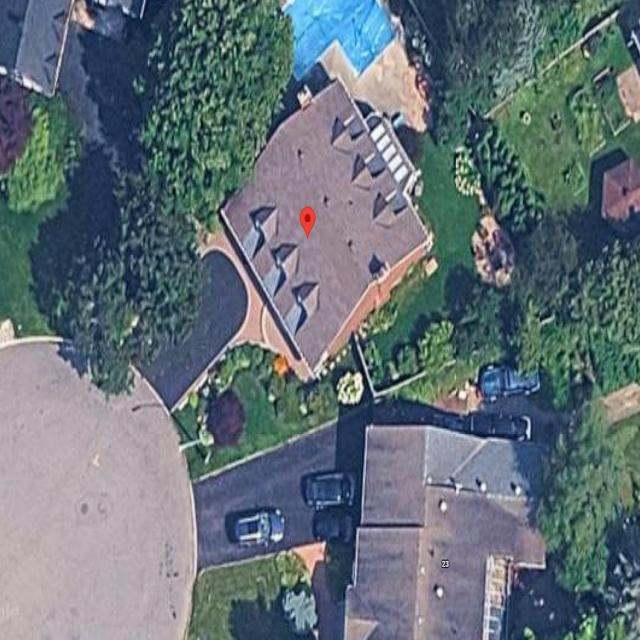Building: (219, 78, 438, 380)
boundaryof property: (51, 3, 528, 483)
obstacle: (204, 390, 249, 455), (232, 506, 288, 549), (305, 476, 354, 510), (311, 517, 355, 543)
walkways: (128, 247, 250, 412)
